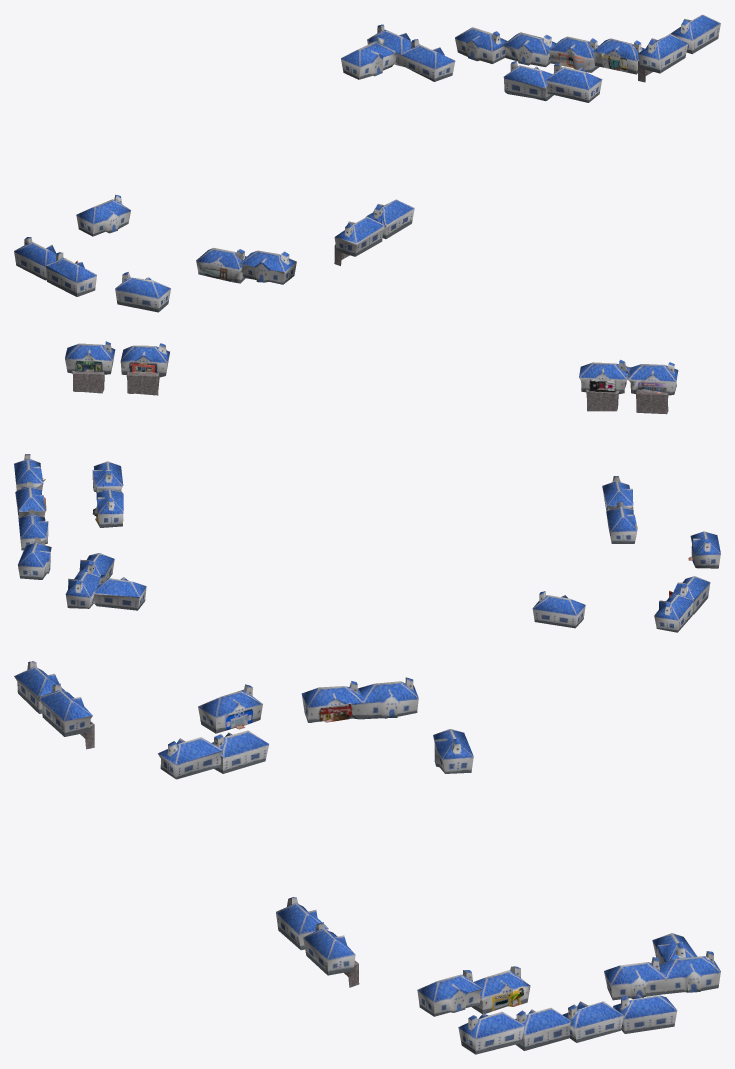
The model's file is clod_town_c02_clod003.gltf.
3 views of the same model, one above another, from view 1: azimuth 30°, elevation 25°; view 2: azimuth 150°, elevation 25°; view 3: azimuth 270°, elevation 25° (orthographic). The views are drawn at different scales.
Parts seen in each view (by area): view 1: clod_town_c02_clod003_000_meshShape:remesh_mat; view 2: clod_town_c02_clod003_000_meshShape:remesh_mat; view 3: clod_town_c02_clod003_000_meshShape:remesh_mat.
Part boxes in pixels (<box>): clod_town_c02_clod003_000_meshShape:remesh_mat: <box>14,14,720,312</box>; clod_town_c02_clod003_000_meshShape:remesh_mat: <box>14,341,720,632</box>; clod_town_c02_clod003_000_meshShape:remesh_mat: <box>14,661,720,1054</box>.
Size of the model in its own units: 198 by 34.17 by 155.
1 material, 1 textured.
